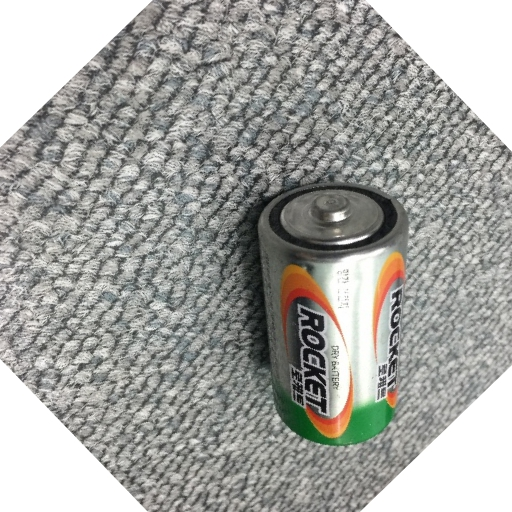Battery_0: (249, 177, 415, 449)
